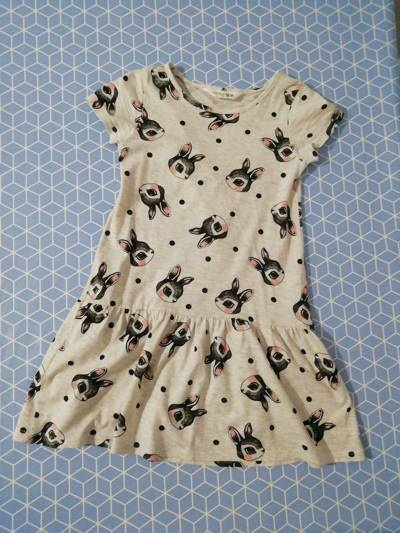Dress: (4, 49, 383, 476)
